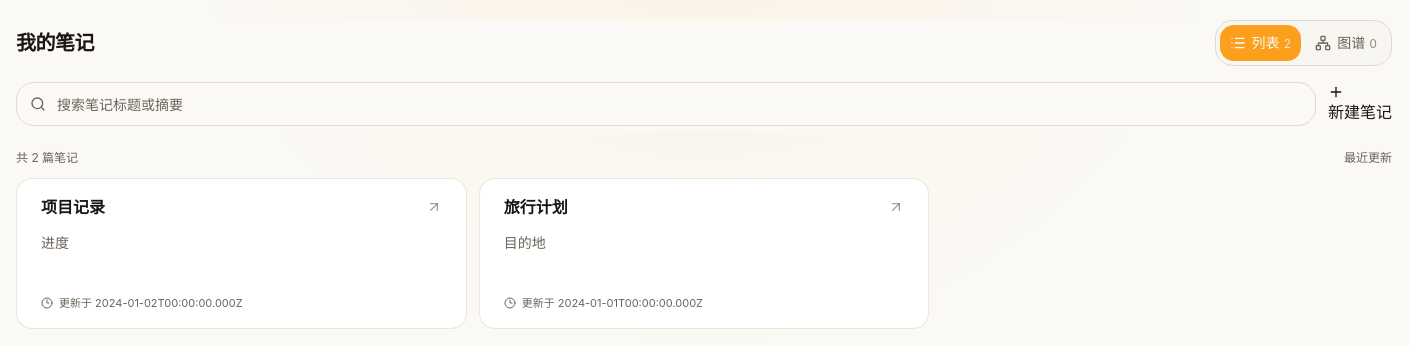
Test case: NotePage › searches notes and keeps the new-note action accessible
Expected: the heading "旅行计划" is shown, [504,197,568,217]
In the search field labelled "搜索笔记": x=666, y=104 [16,82,1316,126], type "项目"
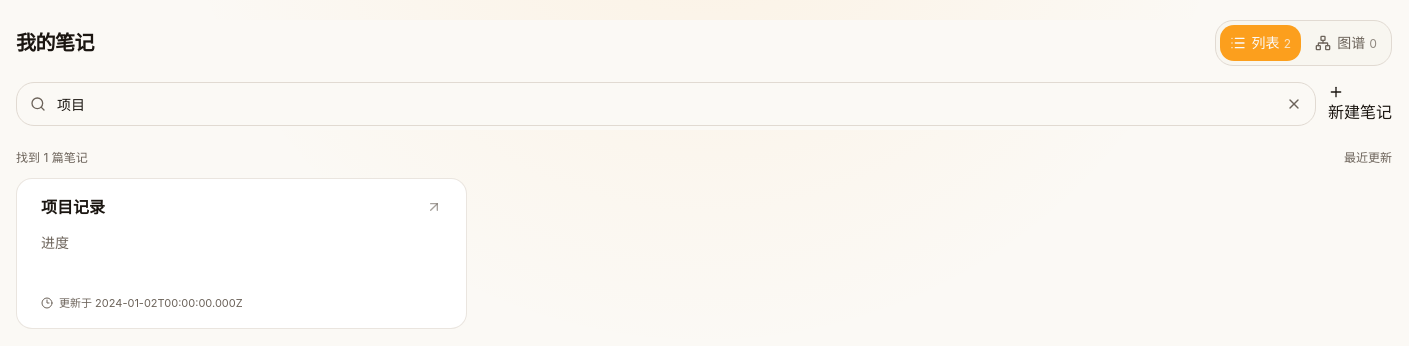
Expected: the heading "项目记录" is shown, [41,197,105,217]
Now the link "旅行计划" is gone
